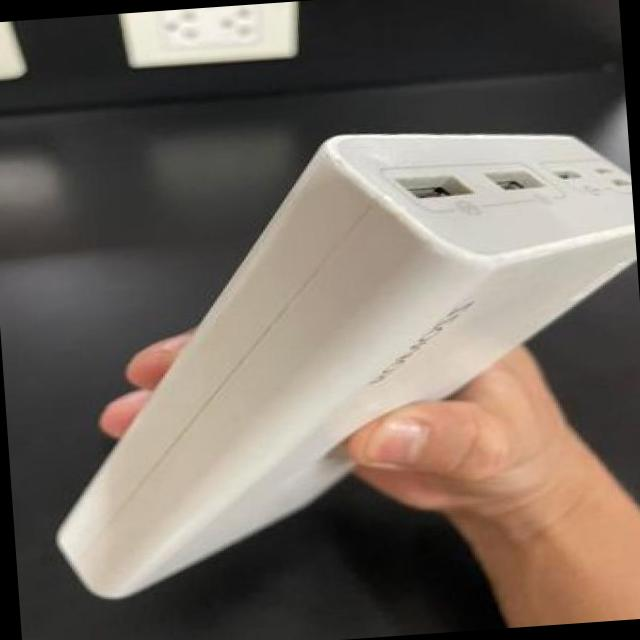power_bank: (19, 97, 640, 608)
